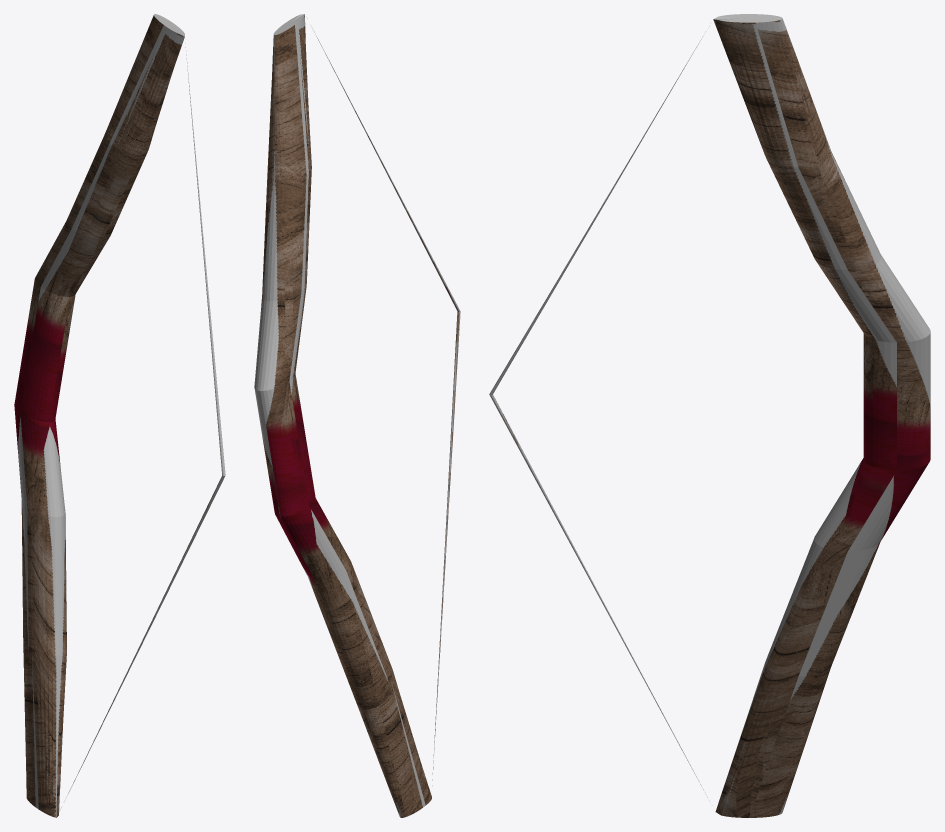
File: Protagonista114.obj
3 views of the same model, side by side, from view 1: azimuth 30°, elevation 25°; view 2: azimuth 150°, elevation 25°; view 3: azimuth 270°, elevation 25° (orthographic). The views are drawn at different scales.
Visible parts, largest first — view 1: Cilindro; view 2: Cilindro; view 3: Cilindro.
Boxes of the visible parts, x1,y1,x2,y2 form: Cilindro: (14, 14, 225, 817); Cilindro: (254, 14, 460, 817); Cilindro: (489, 14, 930, 817).
Bounding box in the file's own units: 0.1877 × 0.9705 × 0.4473.
1 material, 1 textured.
